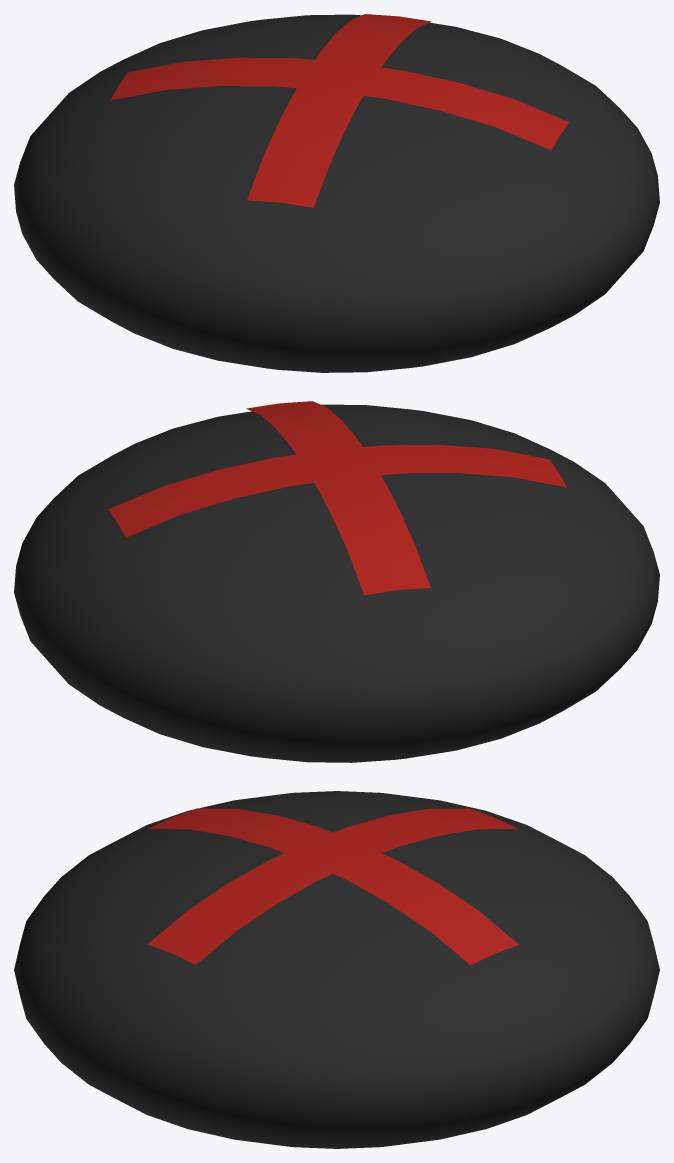
File: black_Fake.fbx
The picture shows the model from 3 angles, top to bottom: view 1: azimuth 30°, elevation 25°; view 2: azimuth 150°, elevation 25°; view 3: azimuth 270°, elevation 25°; orthographic projection.
Parts seen in each view (by area): view 1: Black.002; view 2: Black.002; view 3: Black.002.
Part boxes in pixels (box(x1,y1,x2,y2)): Black.002: box(14, 14, 659, 372); Black.002: box(14, 401, 659, 762); Black.002: box(14, 791, 659, 1148).
Size of the model in its own units: 200 by 80.49 by 200.
